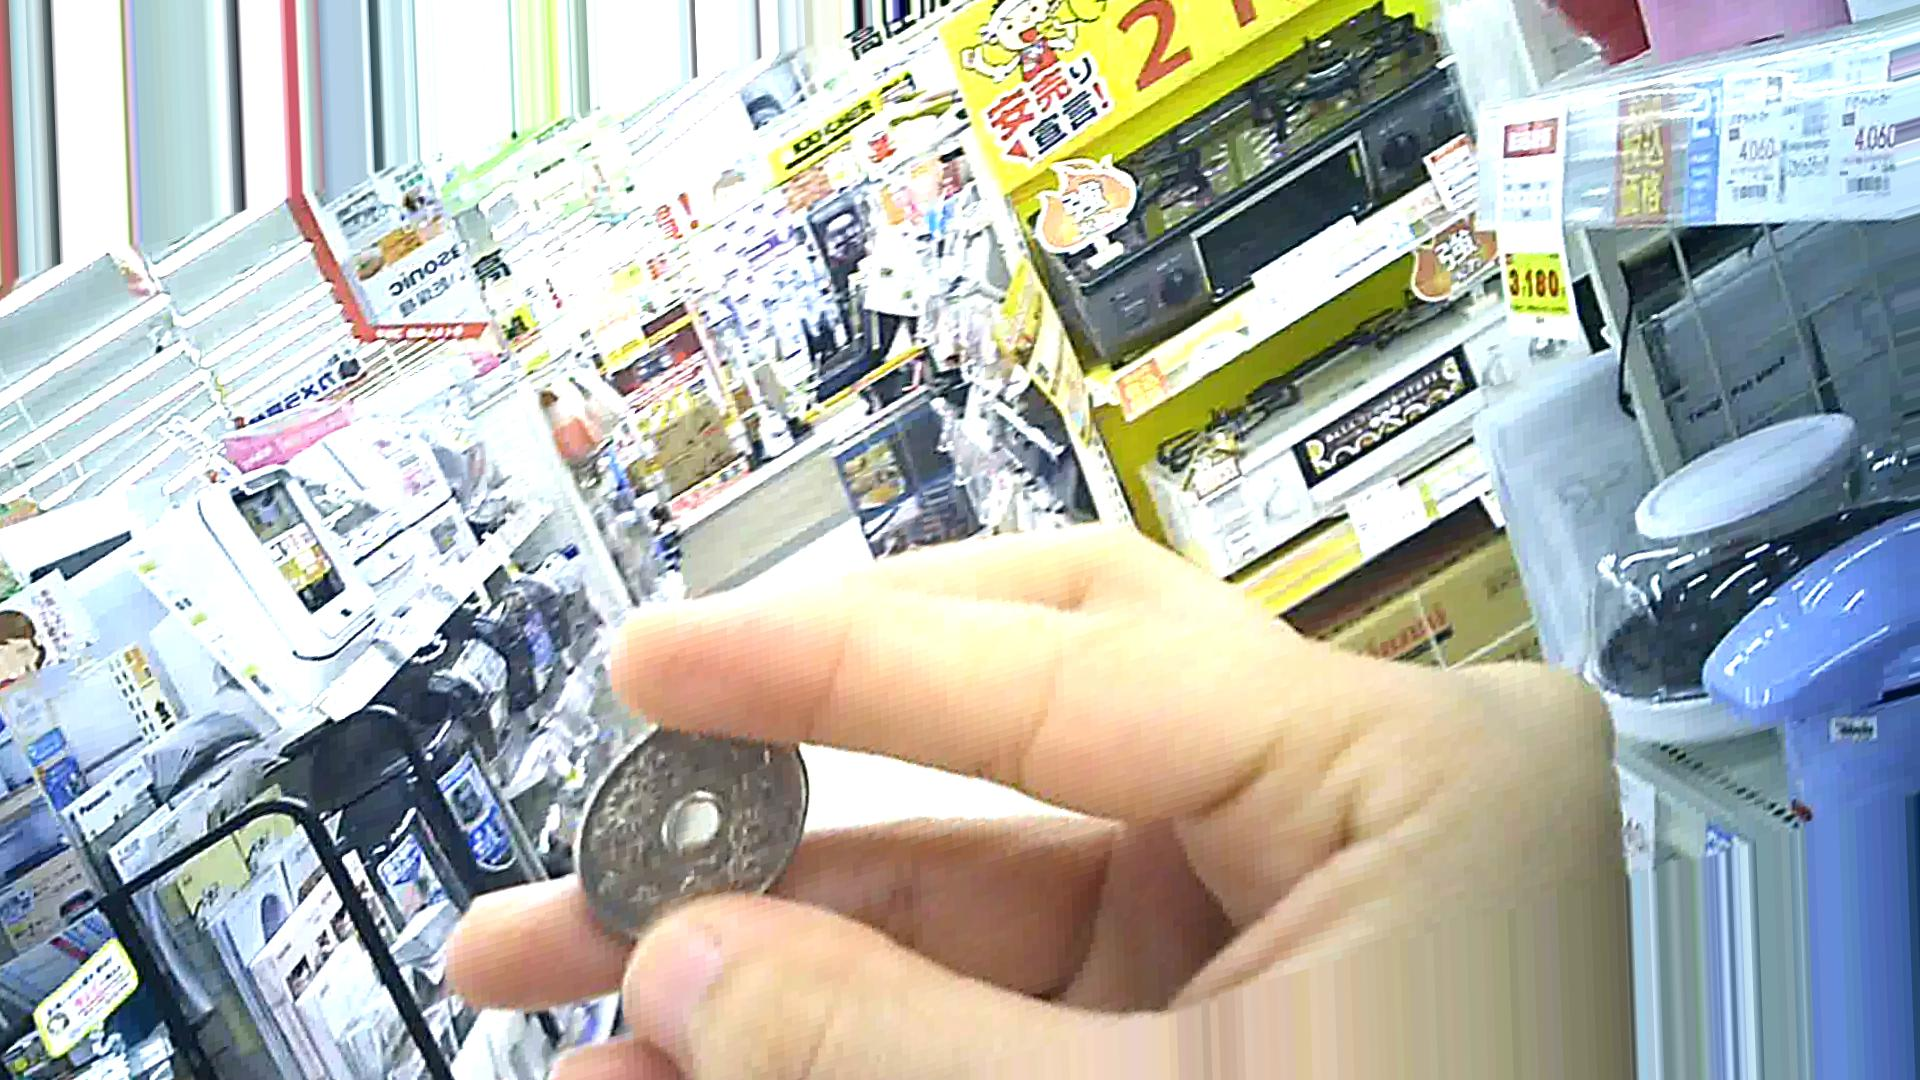50 Yen: (574, 713, 800, 952)
